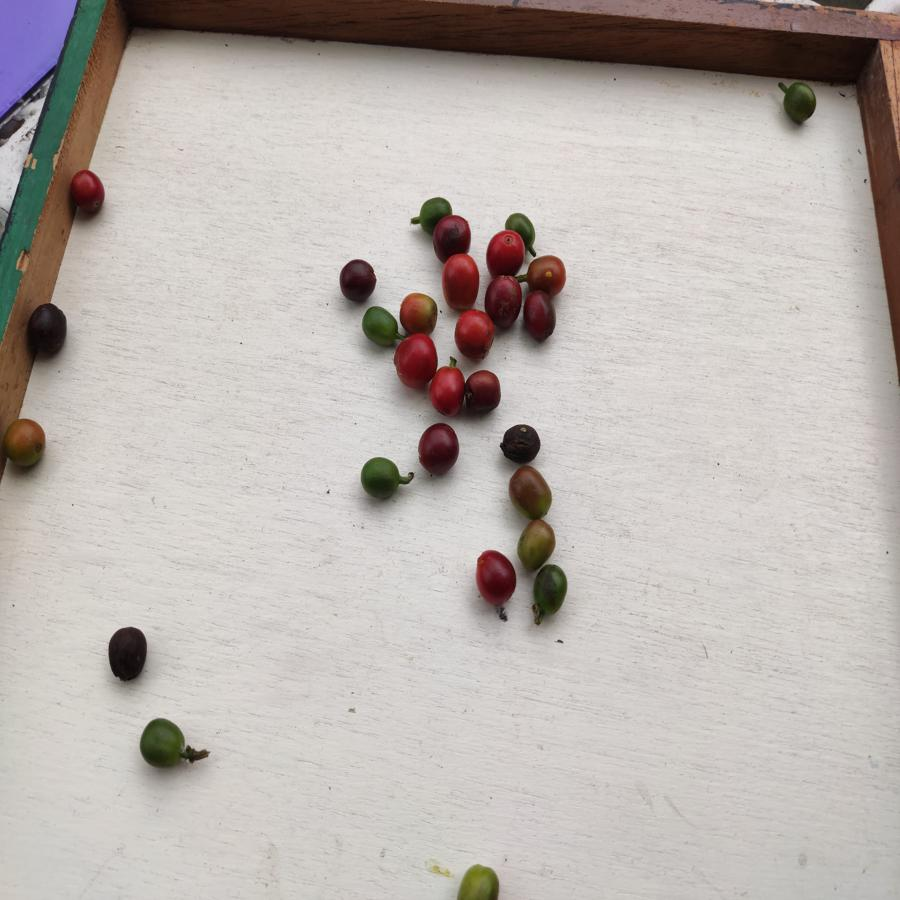Inmaduro: (138, 715, 187, 772), (358, 456, 405, 502), (780, 78, 819, 128), (535, 563, 571, 615), (362, 305, 399, 348), (508, 209, 544, 238), (418, 196, 455, 217)
Maduro: (393, 333, 437, 389), (443, 255, 482, 315), (455, 308, 498, 362), (70, 168, 111, 220), (430, 364, 465, 416), (487, 229, 525, 270)
Pinton: (2, 418, 55, 472), (505, 463, 554, 517), (523, 252, 569, 295), (517, 517, 557, 565), (456, 862, 503, 900), (397, 292, 439, 331)
Sobremaduro: (23, 299, 70, 362), (471, 545, 518, 605), (417, 419, 462, 478), (106, 624, 148, 682), (486, 272, 522, 331), (500, 420, 543, 466), (523, 288, 558, 343), (465, 368, 503, 418), (338, 257, 378, 303)
